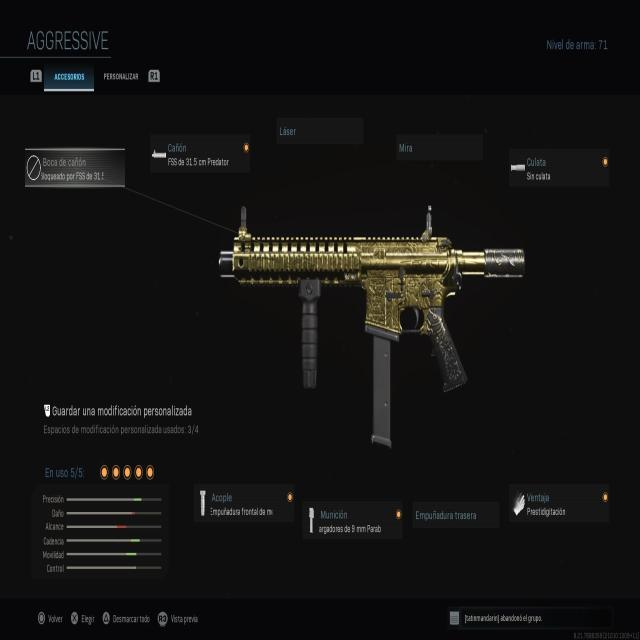weapon: (216, 207, 526, 453)
